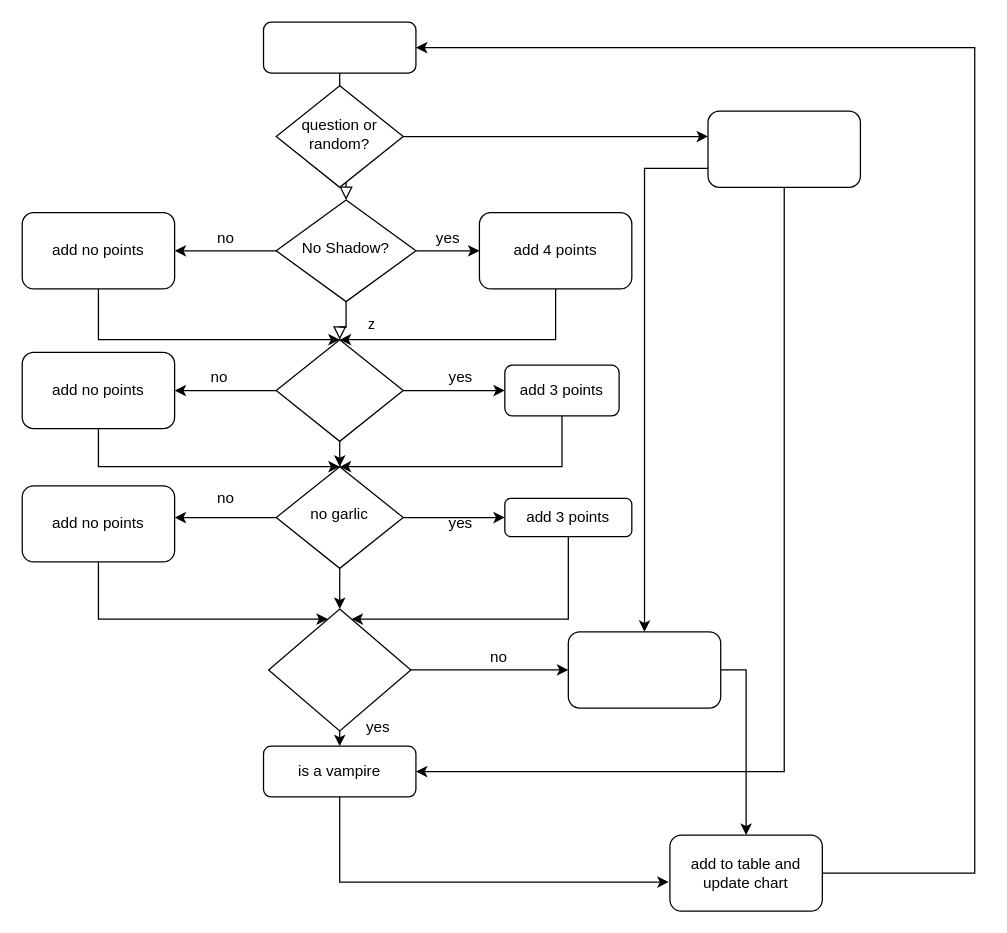
Image size: 1007x933. Some labels were removed from this diagram. The box of each missing label's shape, as (x1, y1, x2, y2) in pixels:
Classmate name: (262, 21, 416, 73)
Not a vampire: (567, 631, 721, 708)
over 6 points?: (267, 608, 411, 731)
pale complexion: (275, 338, 403, 441)
random attributes: (707, 110, 860, 187)
